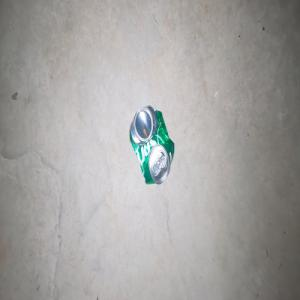SodaCan: (129, 104, 174, 184)
